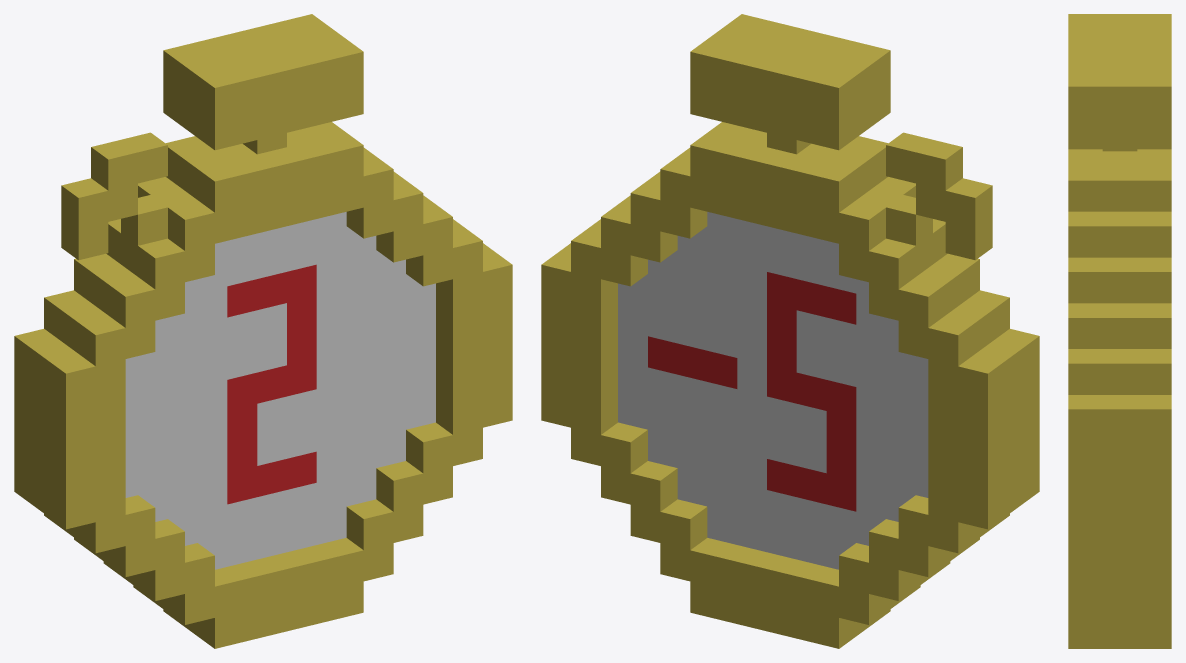
The model's file is time-5.fbx.
The picture shows the model from 3 angles, left to right: view 1: azimuth 30°, elevation 25°; view 2: azimuth 150°, elevation 25°; view 3: azimuth 270°, elevation 25°; orthographic projection.
Visible parts, largest first — view 1: Cube.002; view 2: Cube.002; view 3: Cube.002.
Boxes of the visible parts, x1=… form: Cube.002: x1=14, y1=14, x2=512, y2=648; Cube.002: x1=541, y1=14, x2=1039, y2=648; Cube.002: x1=1068, y1=14, x2=1171, y2=648.
Bounding box in the file's own units: 135 × 162 × 27.
